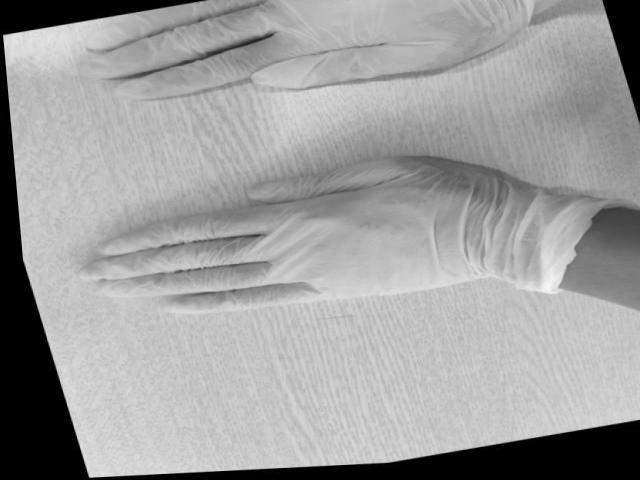gloved: (79, 154, 528, 316), (79, 0, 548, 93)
